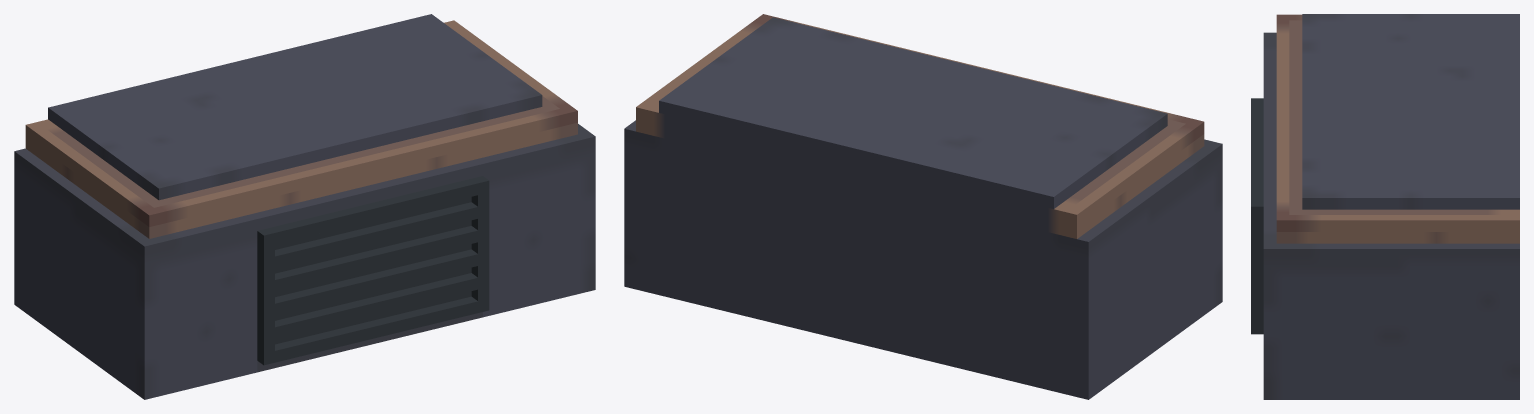
The model's file is BuildingBlock-24.fbx.
3 renders of one model, left to right at view 1: azimuth 30°, elevation 25°; view 2: azimuth 150°, elevation 25°; view 3: azimuth 270°, elevation 25°, orthographic. The views are drawn at different scales.
Parts seen in each view (by area): view 1: BuildingBlock_24; view 2: BuildingBlock_24; view 3: BuildingBlock_24.
Boxes of the visible parts, x1,y1,x2,y2 form: BuildingBlock_24: (14, 14, 595, 399); BuildingBlock_24: (624, 14, 1222, 399); BuildingBlock_24: (1251, 14, 1519, 399).
Size of the model in its own units: 400 by 160 by 210.
1 material, 1 textured.
